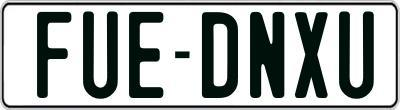D: (202, 10, 239, 102)
E: (127, 11, 165, 97)
F: (34, 11, 71, 102)
N: (248, 10, 287, 96)
U: (82, 9, 120, 102), (338, 9, 375, 103)
X: (294, 9, 330, 95)
